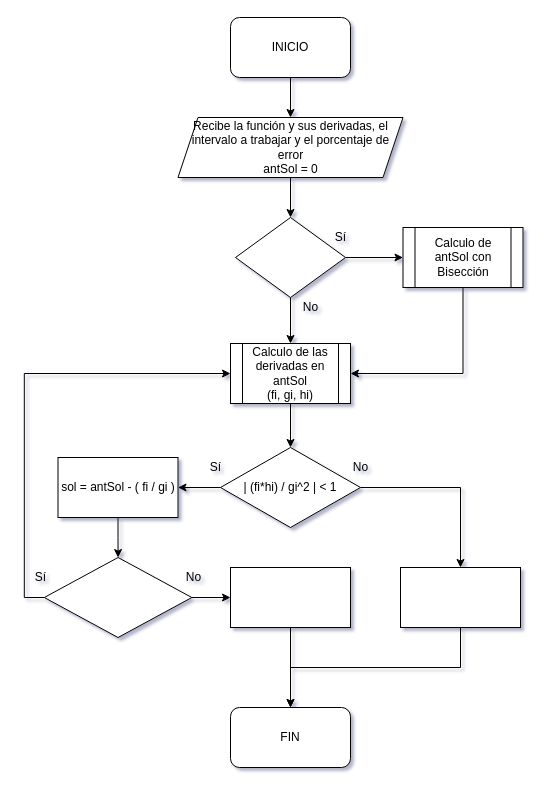
This 547x791 diagram has some shape labels left out. Here are the shapes that lost their labels. From the top down, the box of each, then its label:
(234, 216, 346, 298): antSol = 0
(43, 556, 192, 638): | sol - antSol | > error
(230, 566, 350, 628): Regresa sol
(400, 566, 520, 628): Regresa -1
